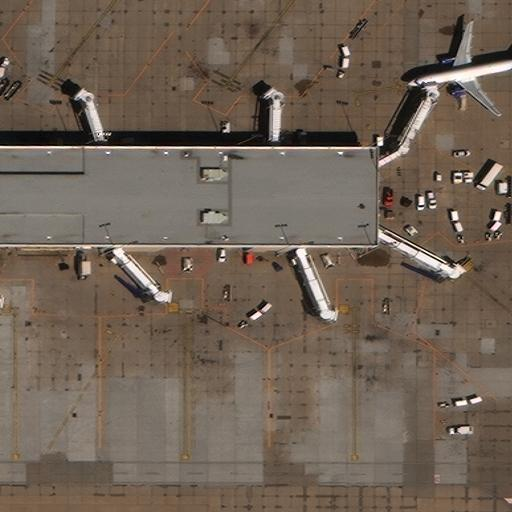Medium Civil Transport: (408, 22, 512, 116)
